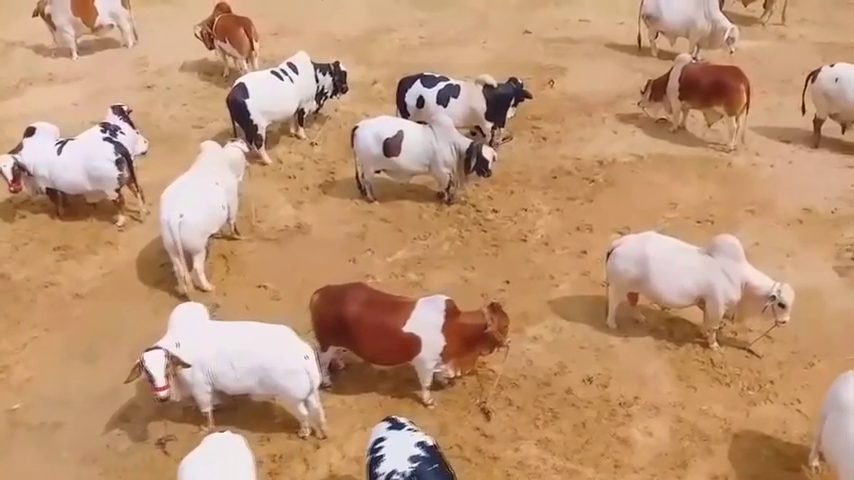bo: (593, 214, 804, 374), (131, 294, 333, 449), (303, 272, 514, 410), (155, 120, 258, 298), (344, 106, 510, 213), (626, 47, 767, 162), (4, 119, 139, 227), (224, 47, 346, 165), (383, 61, 535, 150), (343, 403, 468, 480), (793, 352, 853, 473), (628, 4, 743, 63), (31, 2, 145, 56), (799, 54, 854, 153), (189, 7, 271, 72), (168, 427, 264, 480), (90, 86, 150, 150)
